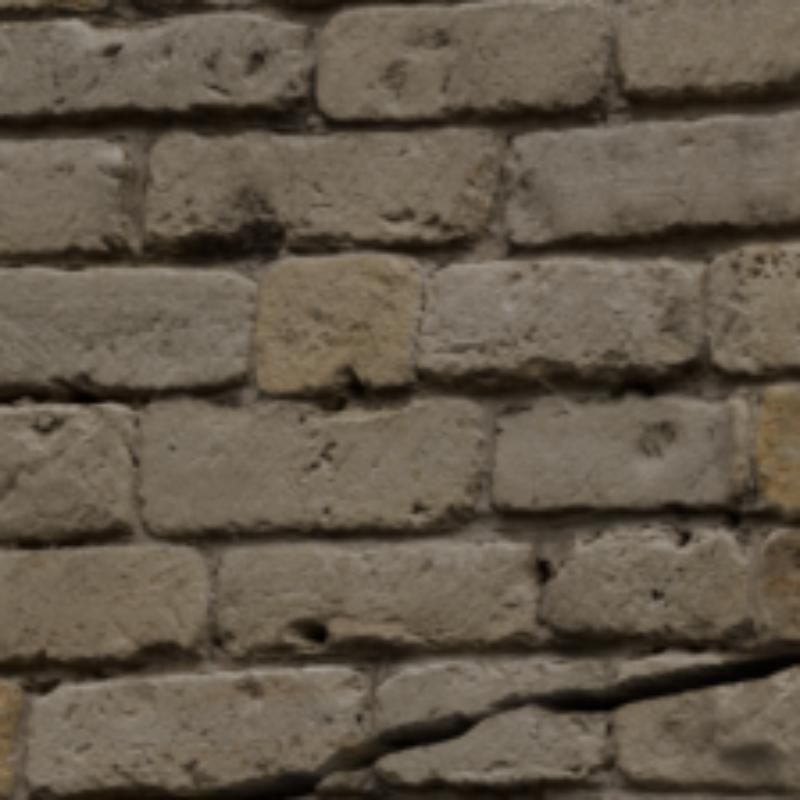pothole: (100, 650, 796, 796)
